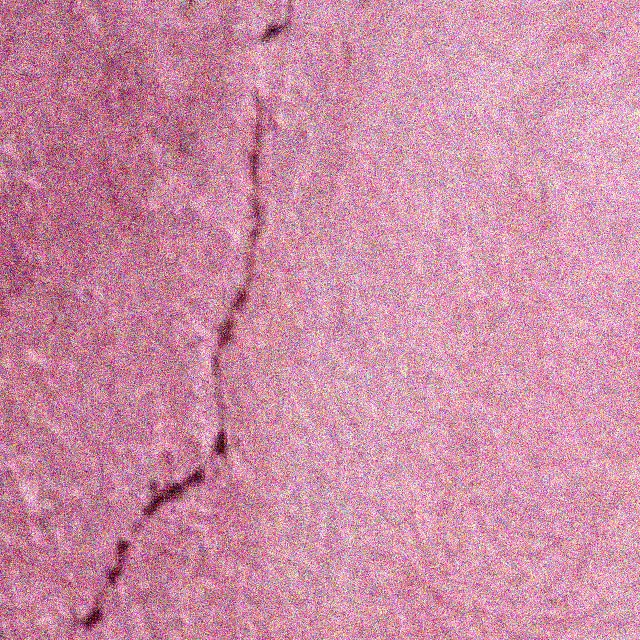SurfaceCrack: (76, 0, 338, 640)
